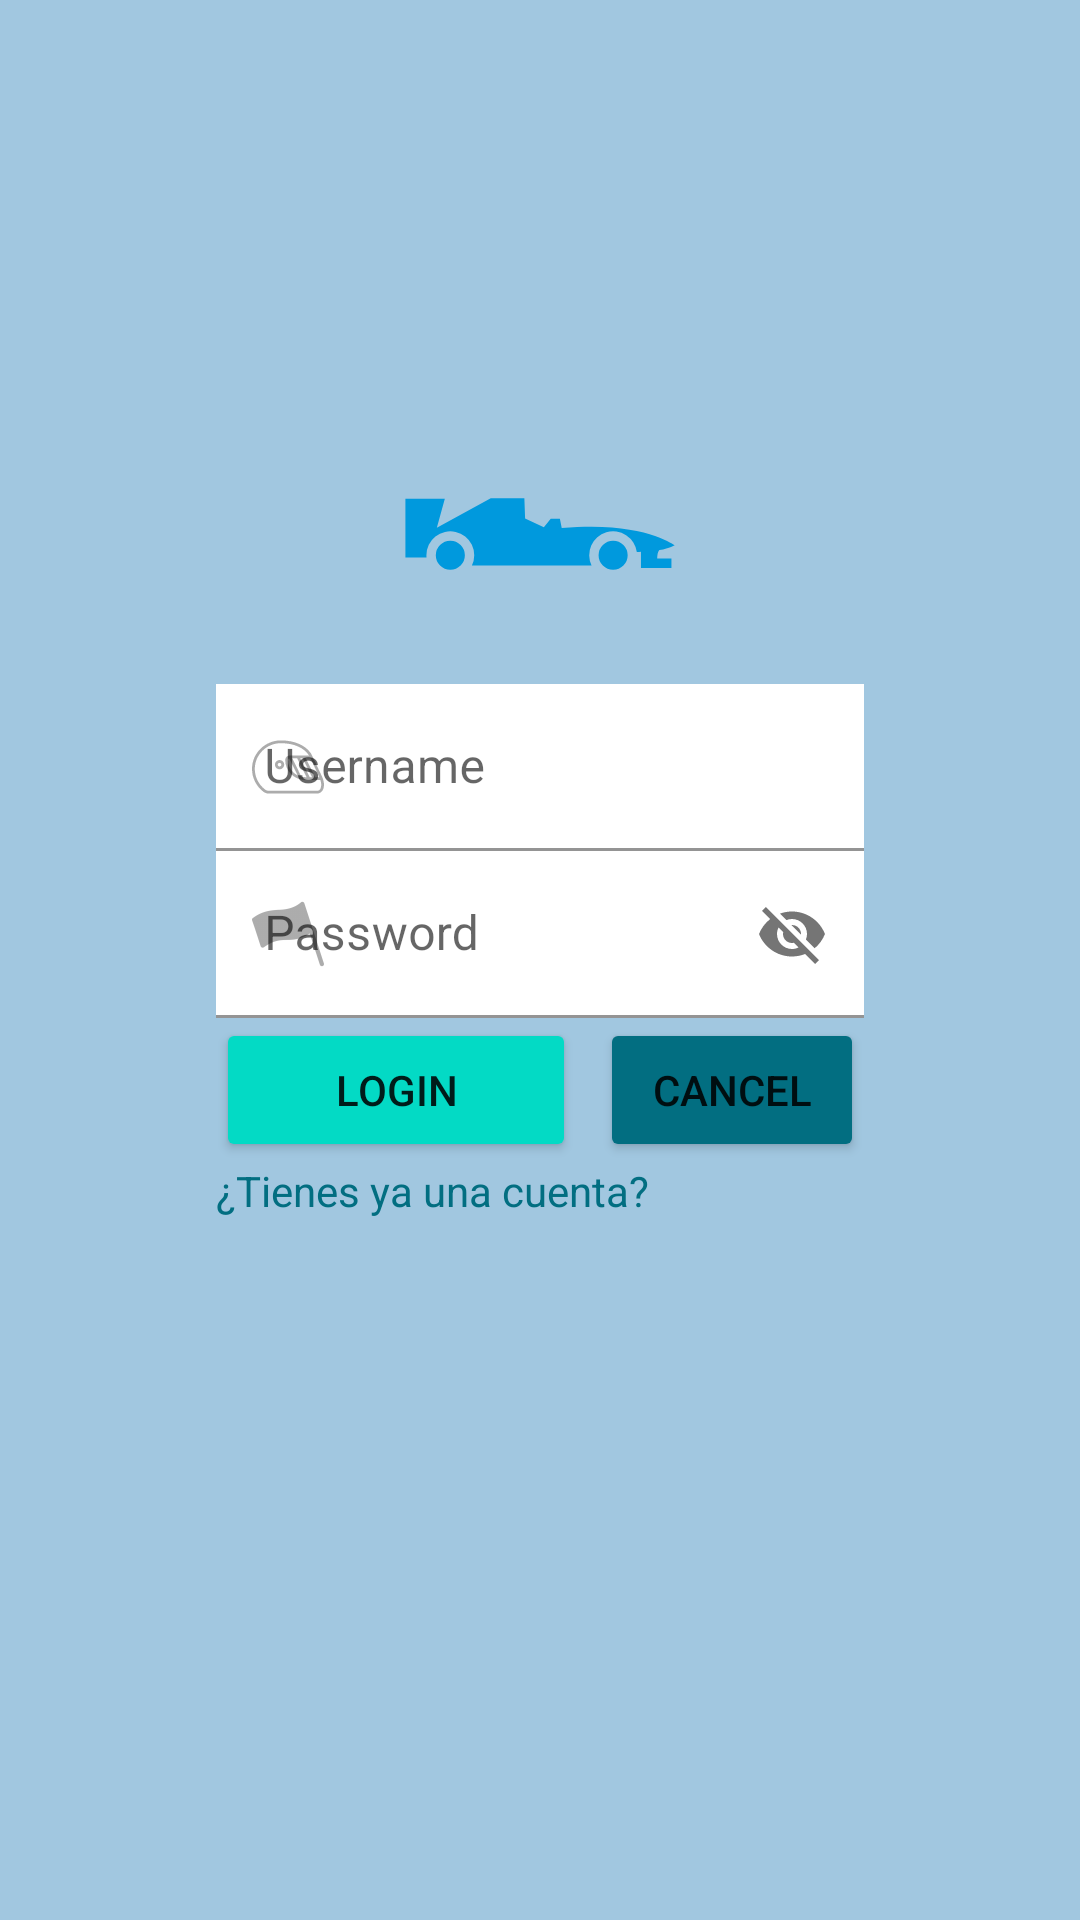

Screen size 1080x1920. Icon name, then its center in pixels as (x=x, y=y):
car: (x=540, y=534)
